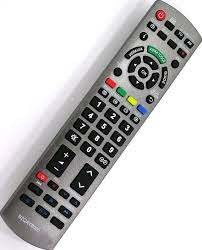remote control: (1, 0, 202, 250)
